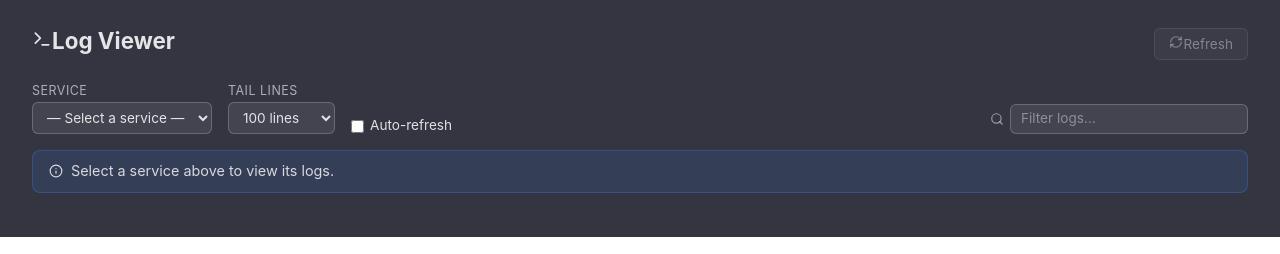
Scenario: AdminLogsPage › shows interval selector when auto-refresh is enabled
// Enable auto-refresh
Step 1. Click the checkbox named "toggle auto-refresh" → point(358, 126), box [351,120,364,133]
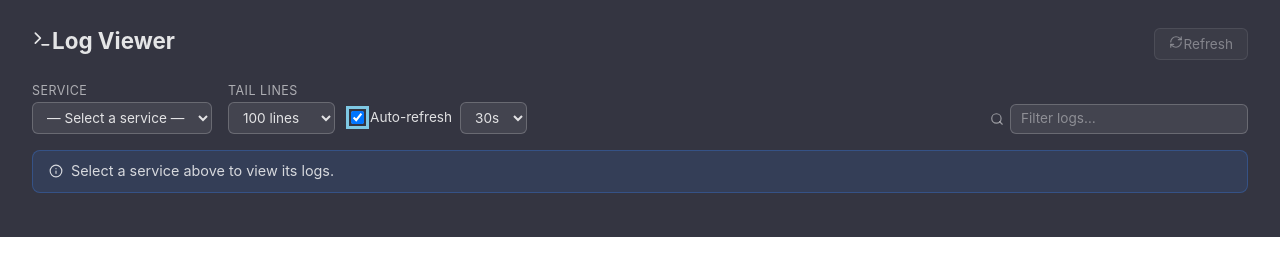
Now the dropdown named "refresh interval" is shown, box [460,102,527,134]
